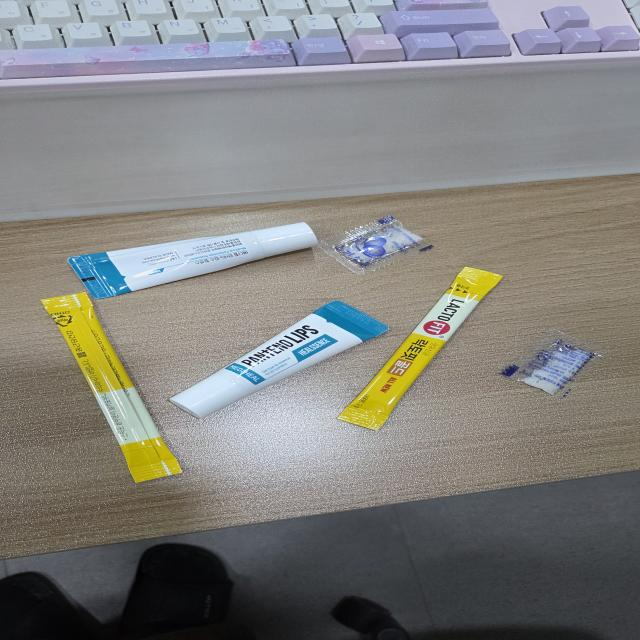lacto: (329, 261, 515, 440), (29, 289, 191, 494)
lip: (154, 294, 404, 433), (62, 218, 323, 303)
salt: (485, 320, 621, 407), (312, 211, 461, 277)
